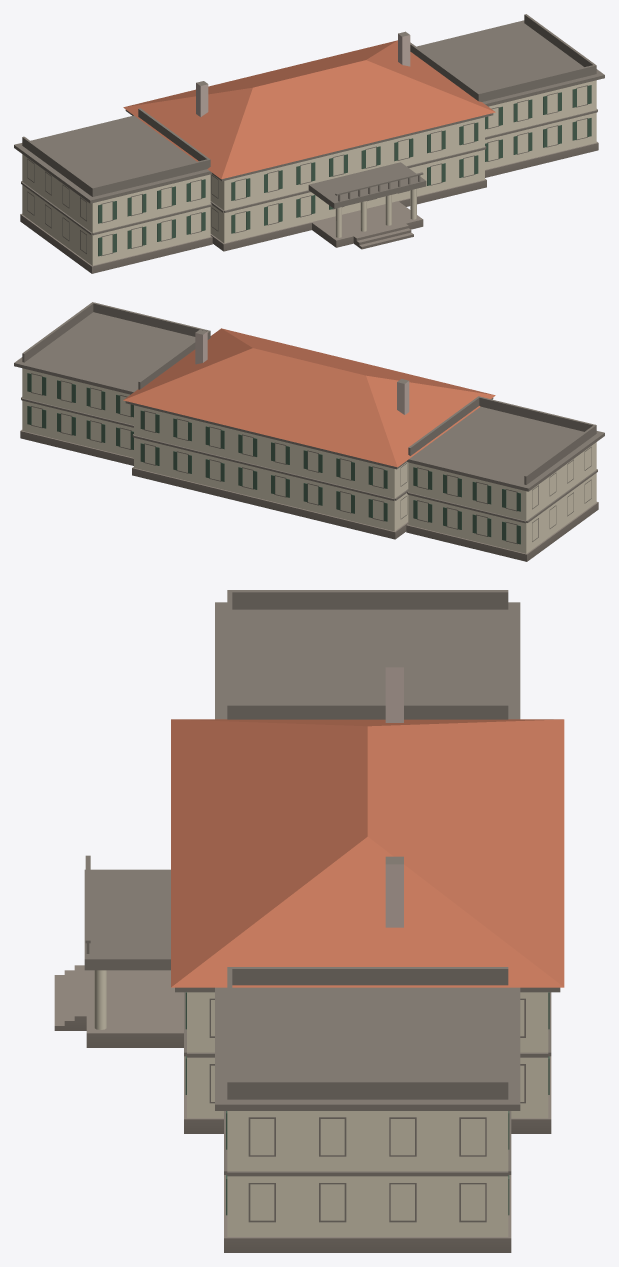
The model's file is mansion_l2.glb.
3 views of the same model, one above another, from view 1: azimuth 30°, elevation 25°; view 2: azimuth 150°, elevation 25°; view 3: azimuth 270°, elevation 25° (orthographic). The views are drawn at different scales.
Visible parts, largest first — view 1: mansion_l2; view 2: mansion_l2; view 3: mansion_l2.
Part boxes in pixels (x1,y1,x2,y2): mansion_l2: [14, 14, 604, 273]; mansion_l2: [14, 302, 604, 561]; mansion_l2: [54, 590, 564, 1252].
Size of the model in its own units: 59.2 by 13.4 by 25.4.
